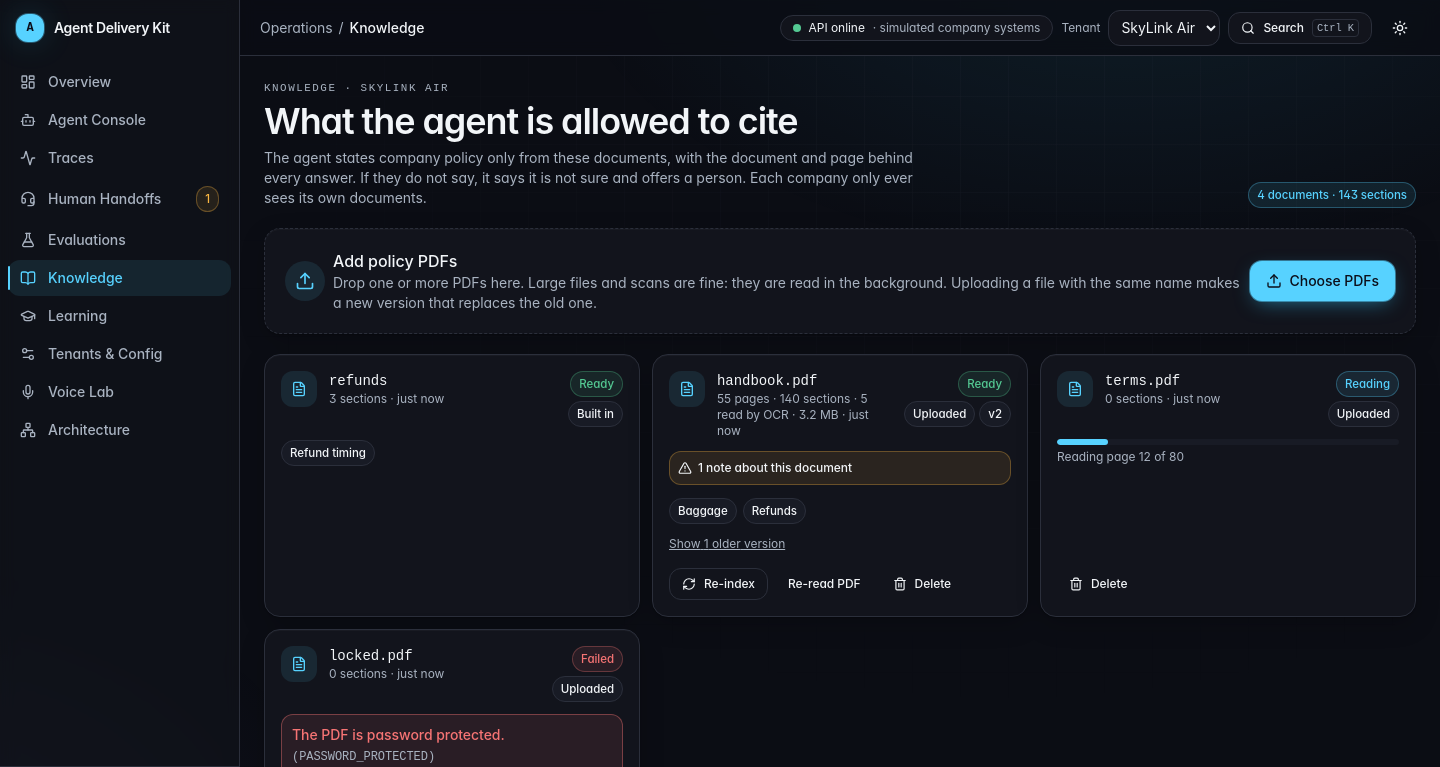
Scenario: Knowledge page › shows older versions on request
Click the button "Show 1 older version".
click(727, 544)  # box [669, 536, 785, 552]
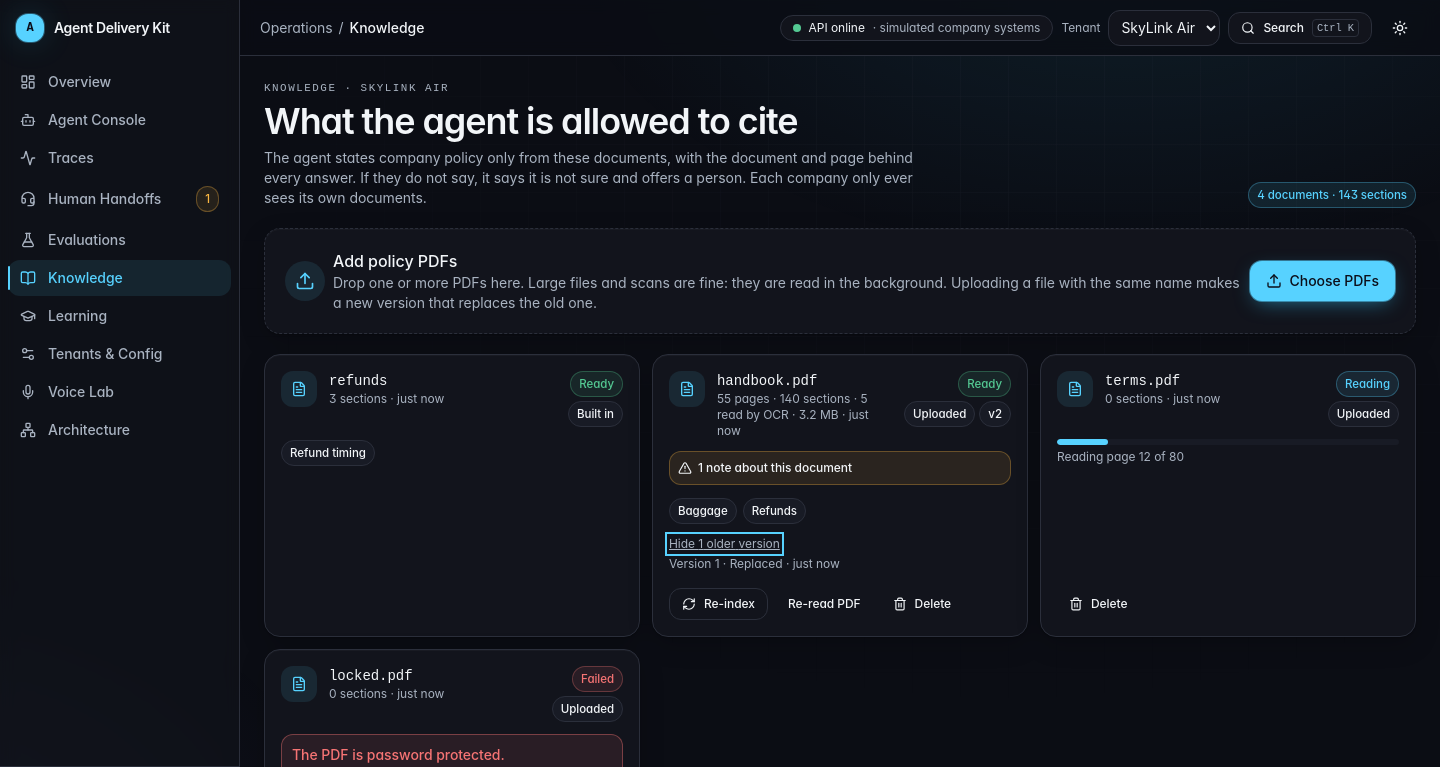
Expected: the list item "Version 1 · Replaced · just now" is shown, [669, 556, 840, 571]
